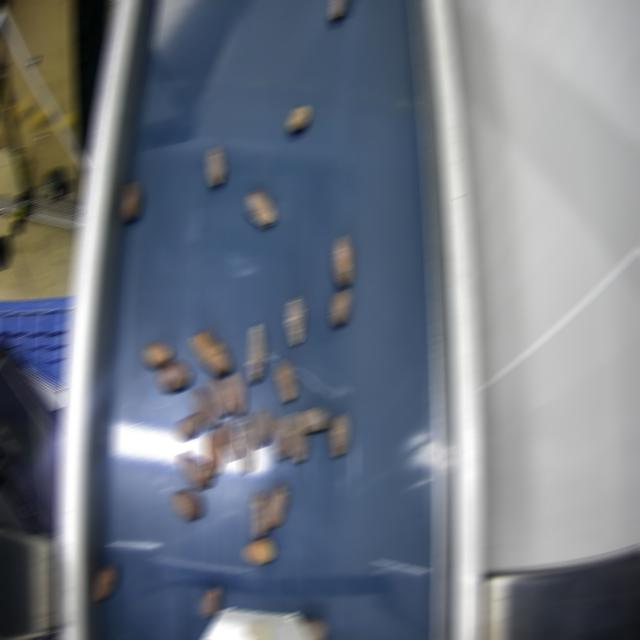Baby Potato: (190, 329, 230, 374), (178, 451, 212, 489), (190, 385, 218, 429), (157, 358, 190, 392), (245, 189, 275, 226), (285, 410, 306, 462), (265, 482, 287, 530), (237, 415, 255, 472), (171, 488, 203, 520), (208, 374, 232, 416), (332, 235, 352, 285), (269, 414, 291, 459), (246, 327, 264, 382), (217, 420, 240, 462), (203, 429, 223, 475), (329, 412, 349, 457), (250, 490, 268, 538), (93, 564, 116, 600), (285, 297, 303, 343), (275, 361, 295, 402), (243, 537, 274, 563), (298, 408, 330, 433), (121, 181, 141, 221), (251, 408, 271, 447), (226, 372, 244, 415), (329, 288, 349, 326), (173, 413, 201, 439), (206, 147, 224, 186), (143, 342, 171, 367), (199, 586, 220, 618), (286, 104, 310, 132), (300, 616, 326, 640), (329, 1, 345, 18)
